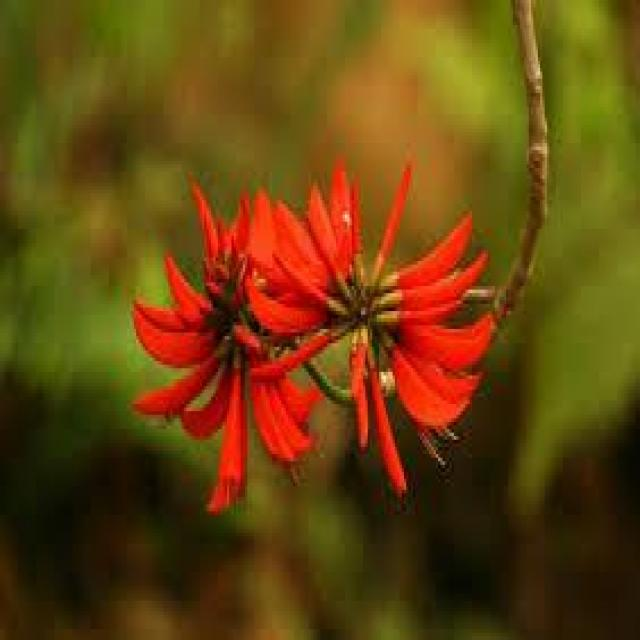organic waste: (260, 139, 496, 515), (125, 172, 322, 522)
